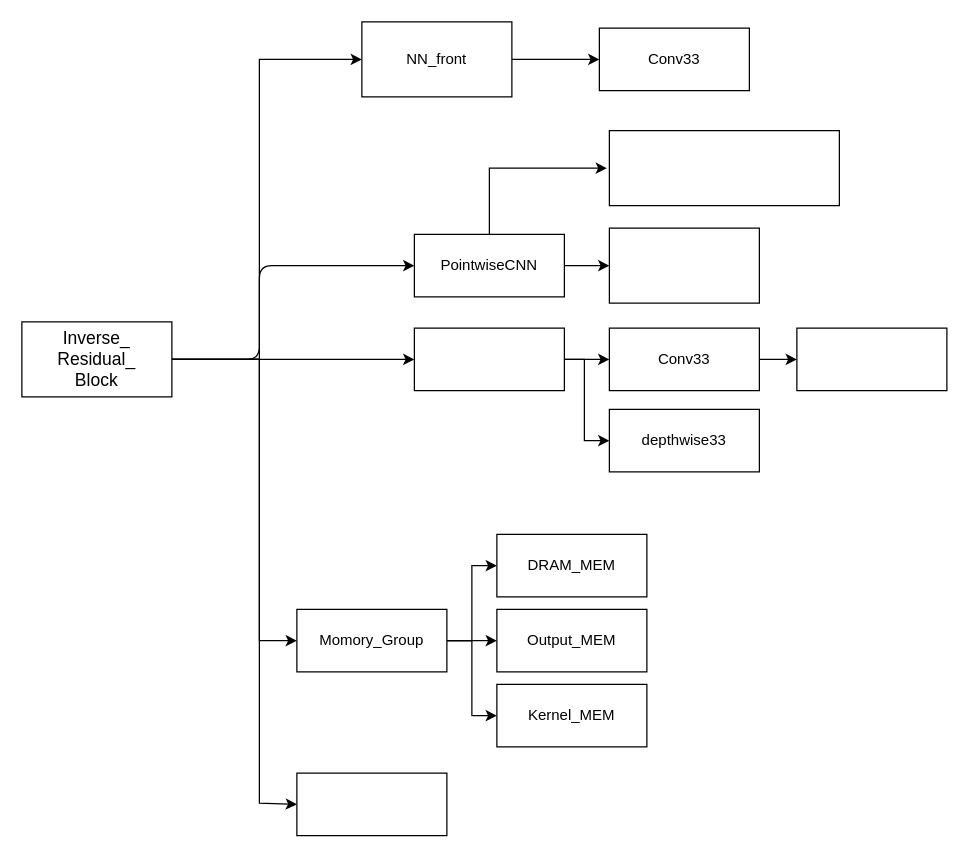
The diagram is 969 pixels wide and 858 high, and some of its shapes have lost their labels. Here are the shapes that lost their labels. From the top down, the centre of each, then its label:
At (x=723, y=167): "PW_result_bram_writer".
At (x=683, y=265): "channel_buffer".
At (x=488, y=359): "DepthwiseCNN".
At (x=871, y=359): "Subadder_tree".
At (x=371, y=804): "Shortcut".
